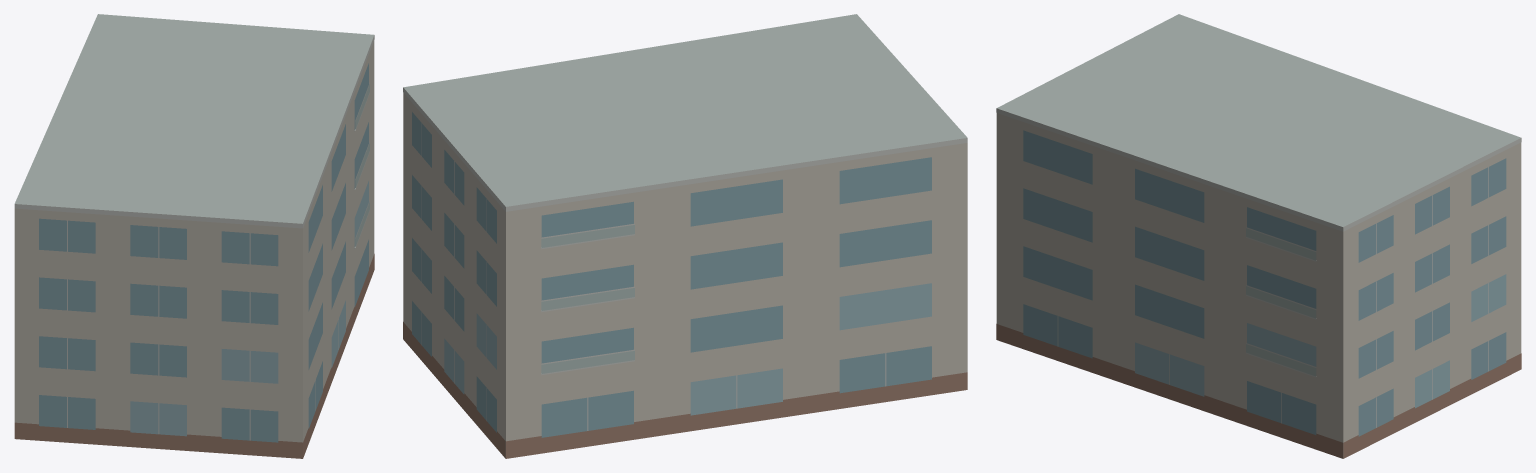
The model's file is survey-upis-32678485.glb.
The picture shows the model from 3 angles, left to right: view 1: azimuth 30°, elevation 25°; view 2: azimuth 150°, elevation 25°; view 3: azimuth 270°, elevation 25°; orthographic projection. The views are drawn at different scales.
Visible parts, largest first — view 1: survey-upis-32678485.tmp; view 2: survey-upis-32678485.tmp; view 3: survey-upis-32678485.tmp.
Boxes of the visible parts, x1,y1,x2,y2 form: survey-upis-32678485.tmp: (14,14,374,458); survey-upis-32678485.tmp: (403,14,967,458); survey-upis-32678485.tmp: (996,14,1521,458).
Size of the model in its own units: 24.48 by 12.4 by 25.47.
